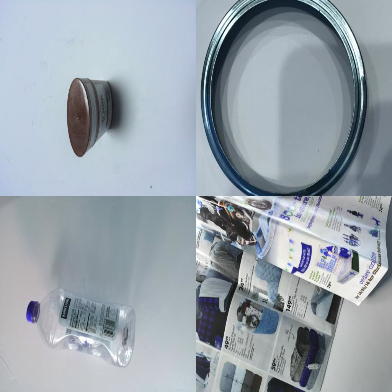metal: (200, 1, 367, 195)
paper: (196, 196, 390, 391)
plastic: (25, 288, 135, 367)
trash: (66, 77, 115, 157)
